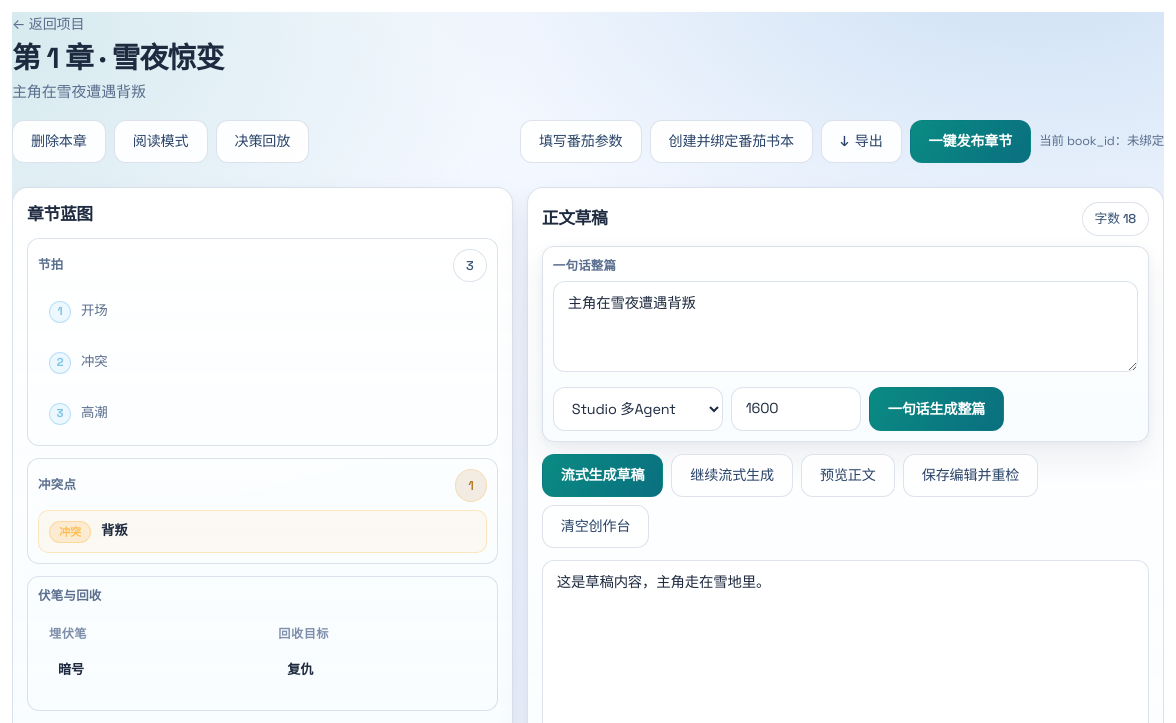
Test: ChapterWorkbenchPage › 支持LLM填充番茄创建参数
The image size is (1176, 723).
Click the button "填写番茄参数": (581, 142) [520,120,642,163]
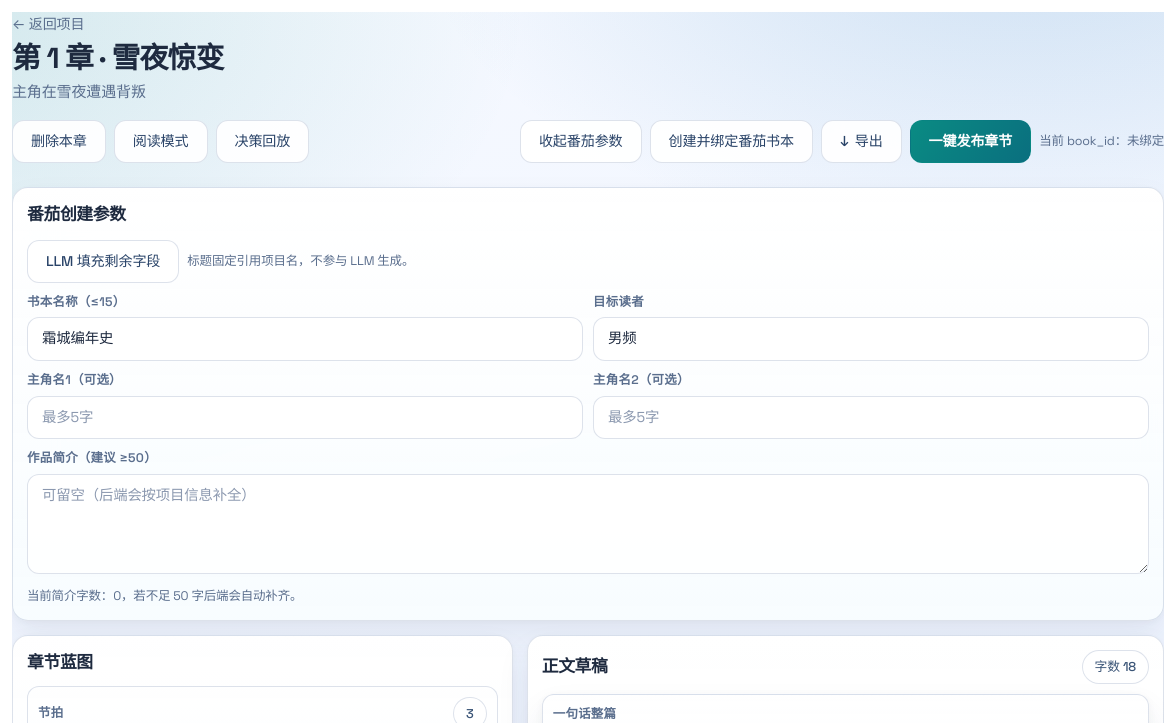
Click the button "LLM 填充剩余字段": (103, 261) [27,240,179,283]
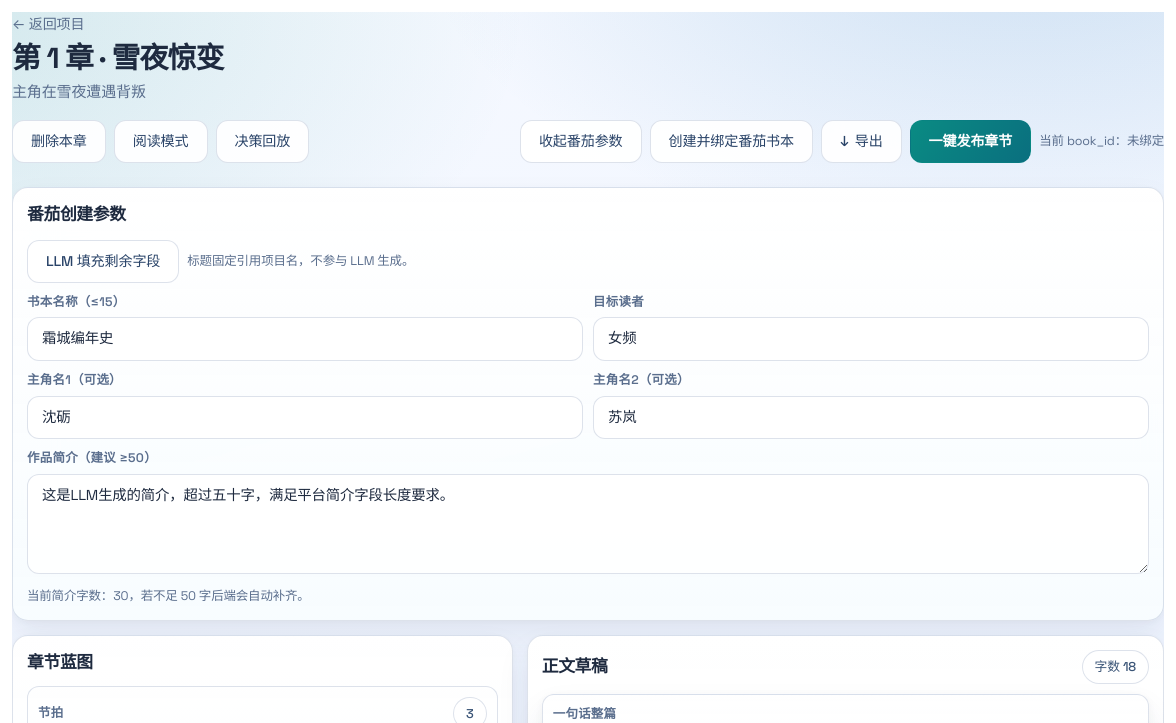
Expected: the field showing "沈砺" is shown, [27,396,583,439]
Expected: the field showing "苏岚" is shown, [593,396,1149,439]
